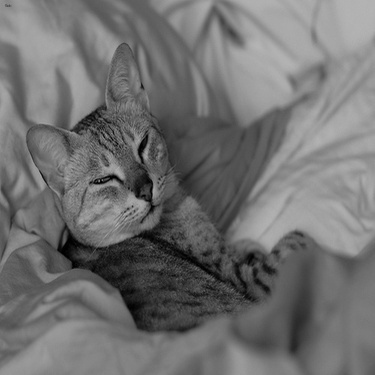cat: (7, 31, 298, 320)
